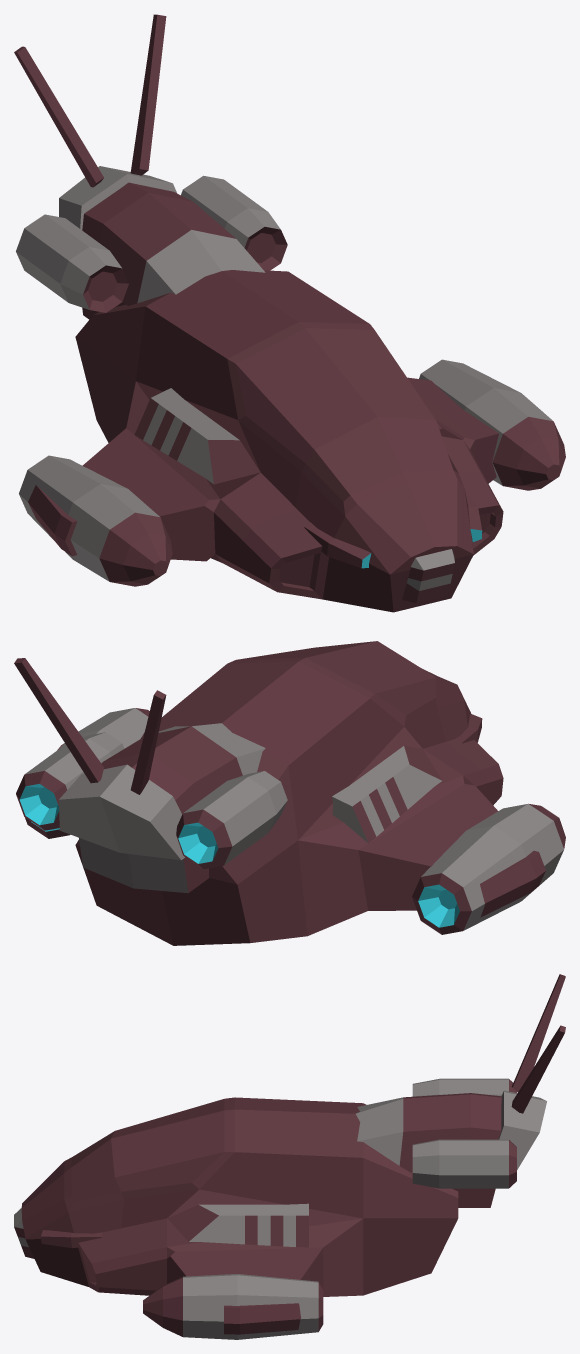
Rendered from scifi-spaceship-cruiser.fbx.
3 views of the same model, one above another, from view 1: azimuth 30°, elevation 25°; view 2: azimuth 150°, elevation 25°; view 3: azimuth 270°, elevation 25° (orthographic). The views are drawn at different scales.
Parts seen in each view (by area): view 1: scifi-spaceship-cruiser; view 2: scifi-spaceship-cruiser; view 3: scifi-spaceship-cruiser.
Boxes of the visible parts, <box> form: scifi-spaceship-cruiser: <box>14,14,565,612</box>; scifi-spaceship-cruiser: <box>14,641,565,945</box>; scifi-spaceship-cruiser: <box>14,974,565,1339</box>.
Bounding box in the file's own units: 7 × 4.65 × 8.84.
